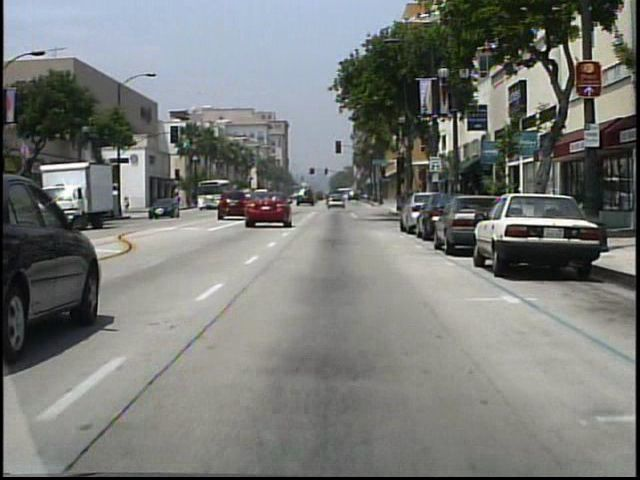person: (124, 196, 133, 217)
